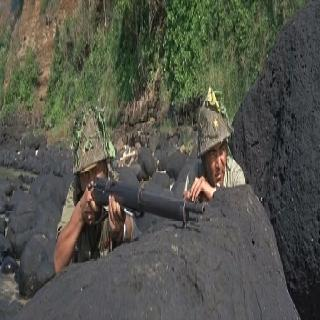gun: (68, 151, 236, 248)
